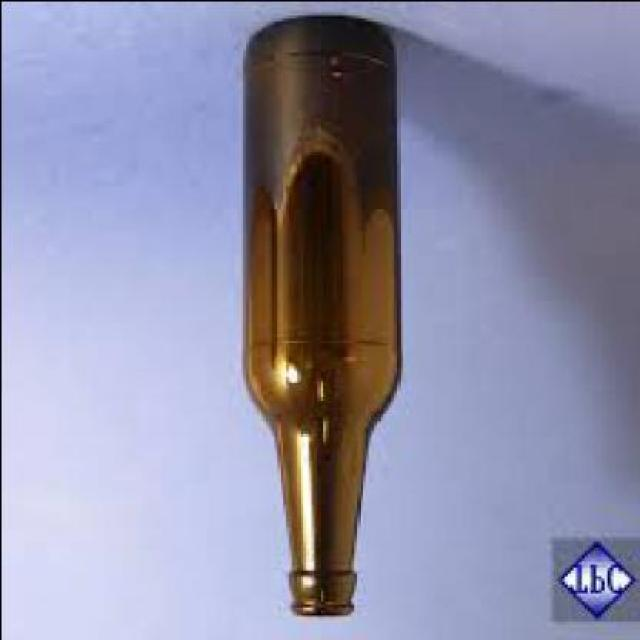GLASS: (242, 14, 402, 617)
